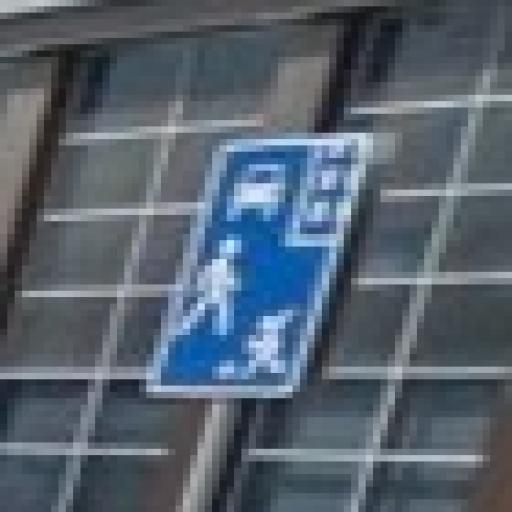traffic_sign: (148, 134, 382, 399)
